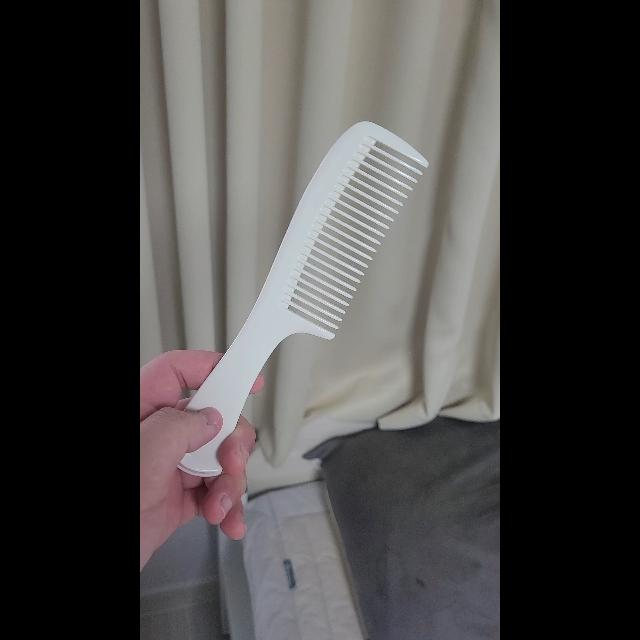COMB: (176, 121, 428, 476)
